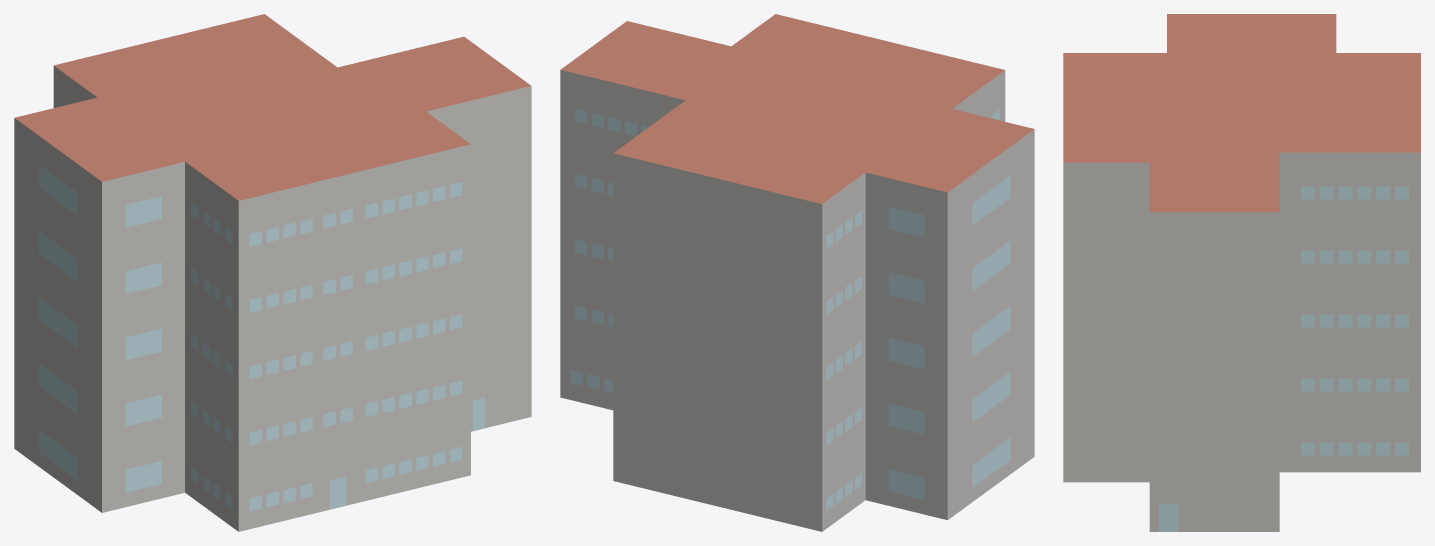
File: OfficeSpace.glb
3 renders of one model, left to right at view 1: azimuth 30°, elevation 25°; view 2: azimuth 150°, elevation 25°; view 3: azimuth 270°, elevation 25°, orthographic. The views are drawn at different scales.
Size of the model in its own units: 30.4 by 22.86 by 23.17.
